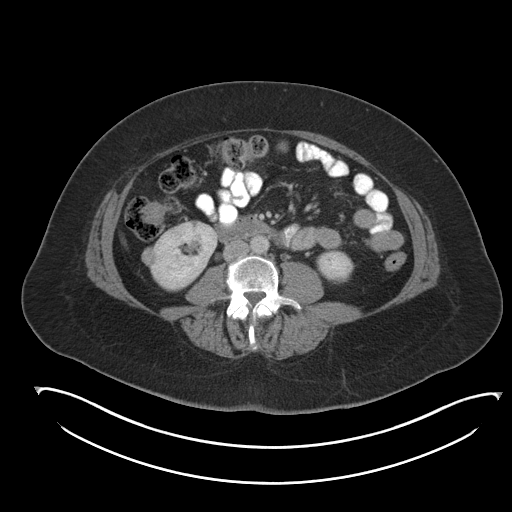Lesion: (140, 243, 159, 269)
